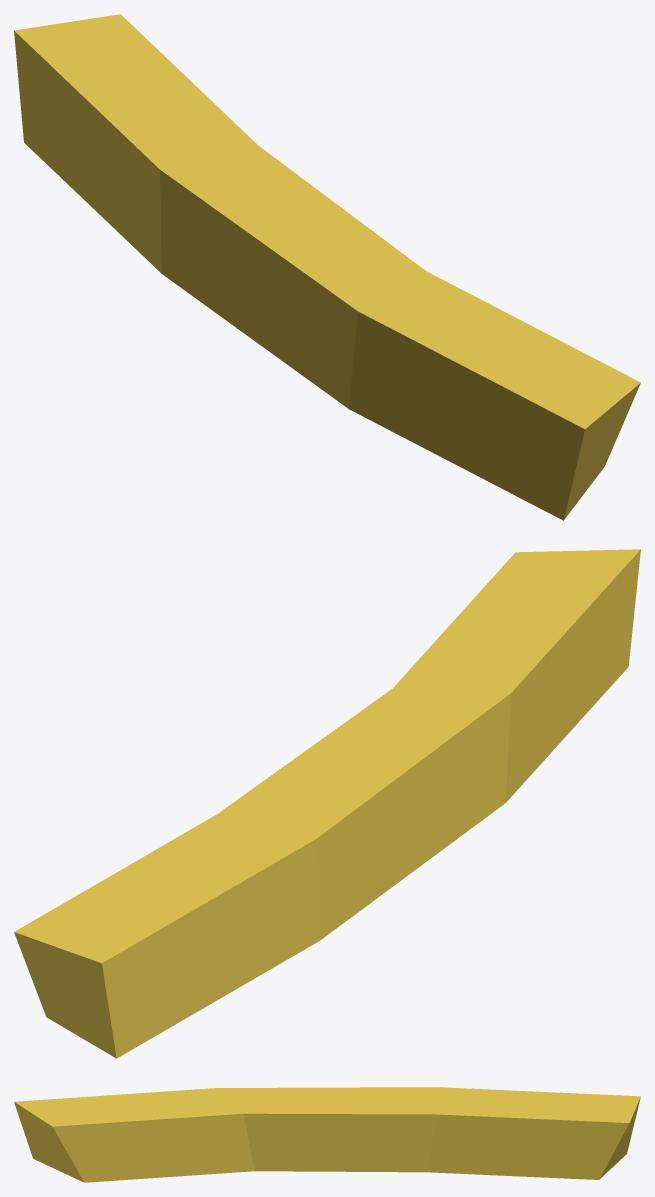
Rendered from Fry.glb.
3 renders of one model, top to bottom at view 1: azimuth 30°, elevation 25°; view 2: azimuth 150°, elevation 25°; view 3: azimuth 270°, elevation 25°, orthographic. The views are drawn at different scales.
Parts seen in each view (by area): view 1: Fry; view 2: Fry; view 3: Fry.
Boxes of the visible parts, x1=… form: Fry: x1=14, y1=14, x2=640, y2=520; Fry: x1=14, y1=549, x2=640, y2=1058; Fry: x1=14, y1=1087, x2=640, y2=1182.
Size of the model in its own units: 0.0292 by 0.02 by 0.195.
Materials: 1 (1 with a texture image).
